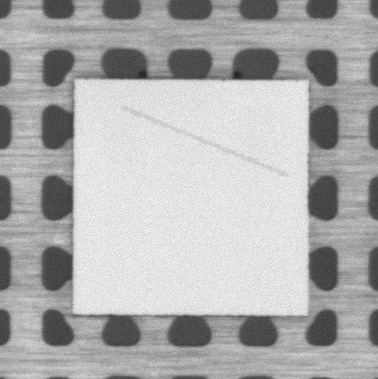DIE_CRACK: (124, 108, 286, 175)
